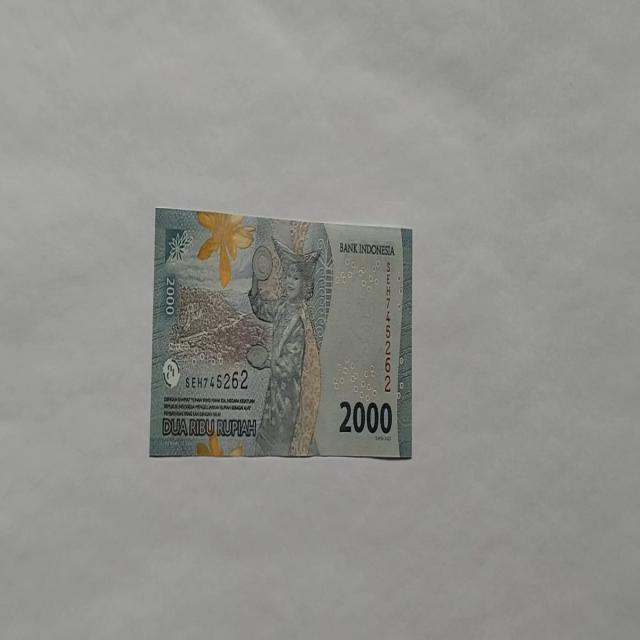dua ribu rupiah: (148, 208, 414, 460), (245, 235, 323, 457), (194, 209, 256, 289)
